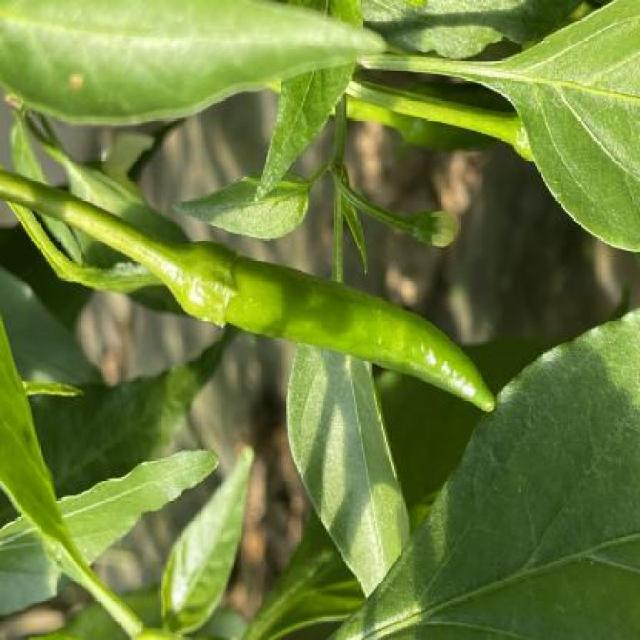green chilli: (180, 241, 495, 414)
